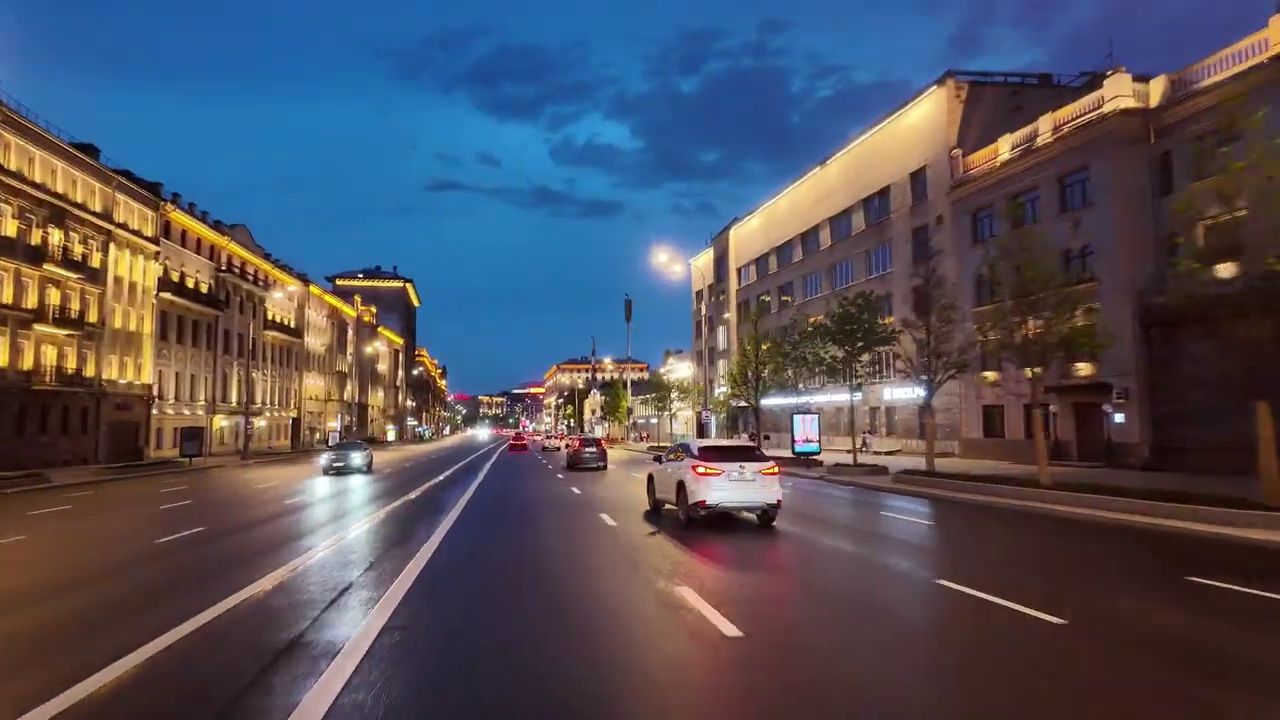acesa: (654, 246, 702, 282), (654, 246, 684, 276)
